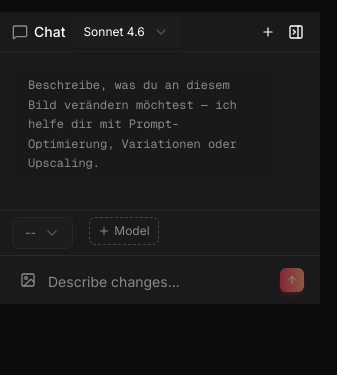
Test: Erase Direct Flow — Slice 09 Acceptance Tests › AC-5: should upgrade to inpaint mode when chat prompt sent in erase mode with mask
The image size is (337, 375).
Step 1. Type "replace with flowers" into the text box with test id "chat-input-textarea" → coordinates (160, 282), box [48,272,272,292]
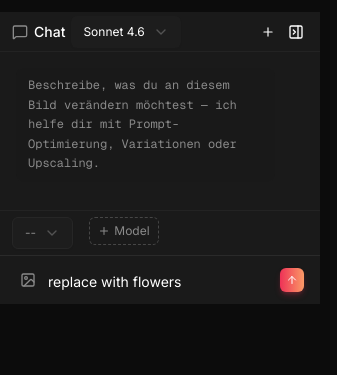
Step 2. Click the button with test id "send-btn" → coordinates (292, 280), box [280,268,304,292]
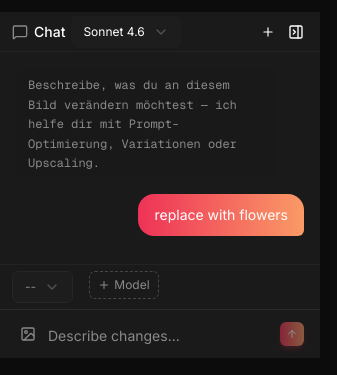
Expected: the text "replace with flowers" is shown, [154,204,288,226]
